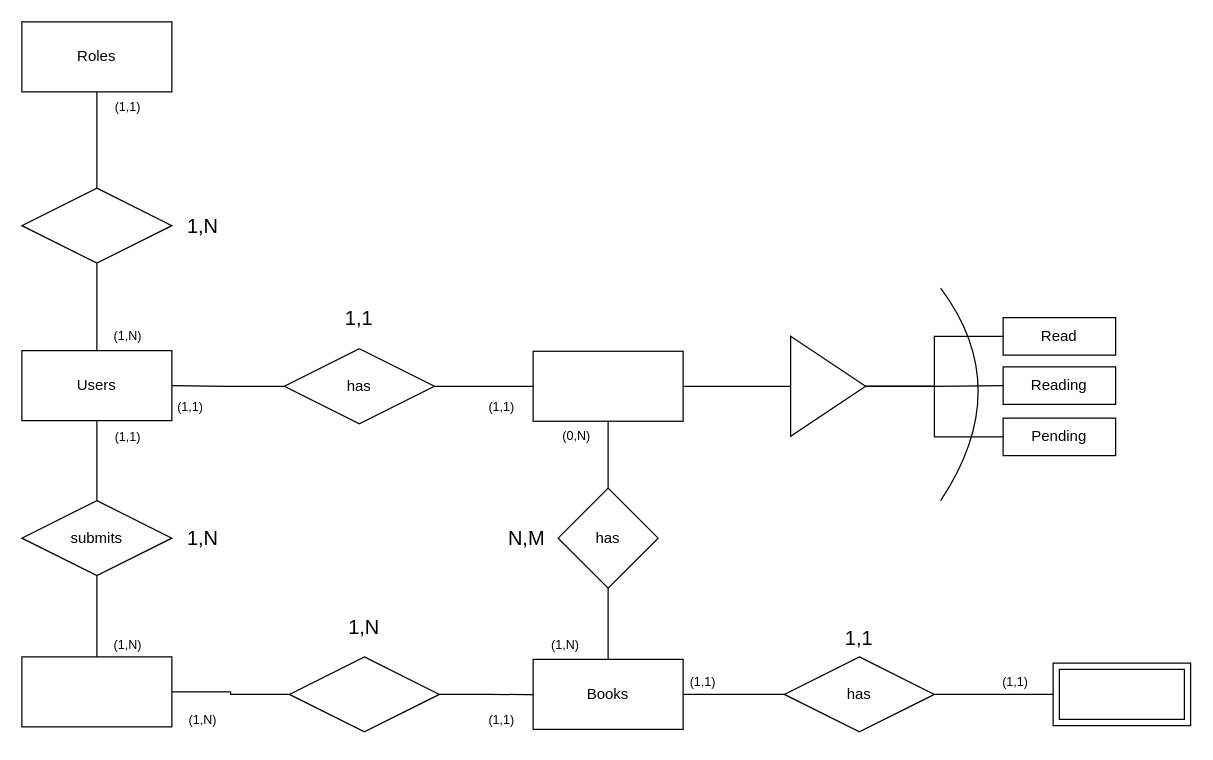
Some shapes in this 1213 by 760 pixel diagram are drawn without their labels. The centre of each missing label's shape, as x and y in pixels:
"Bookshelves" goes at pixel 607 385.
"Editions" goes at pixel 1121 694.
"is" goes at pixel 96 225.
"is part of" goes at pixel 363 694.
"Reviews" goes at pixel 96 691.
